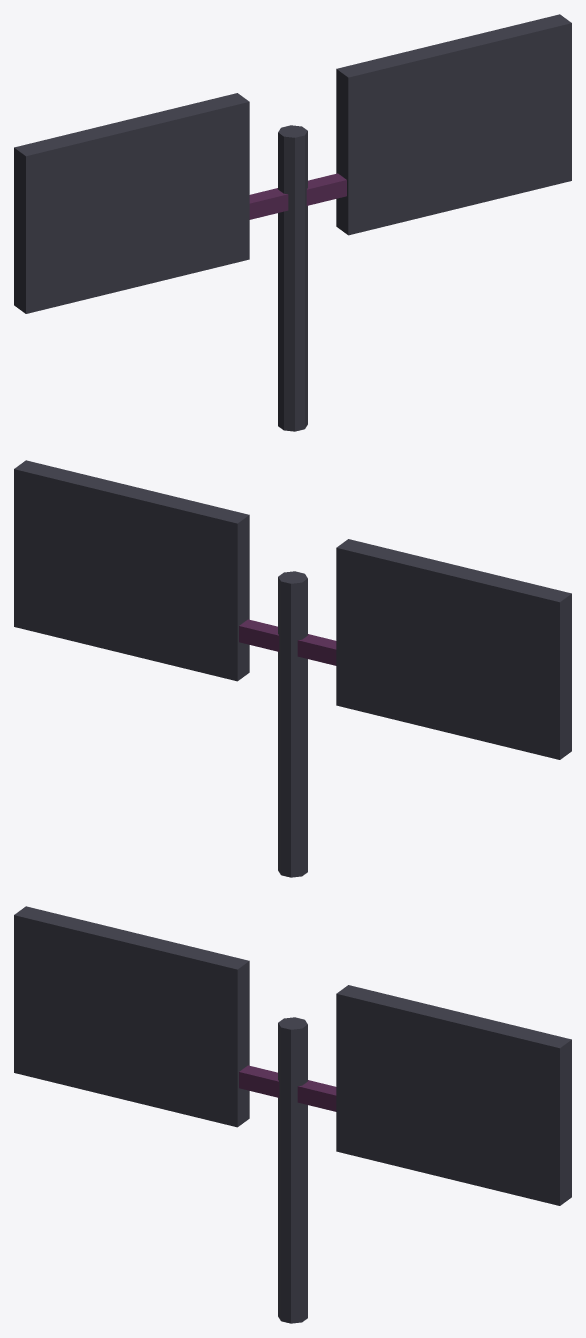
The model's file is dual-monitors-on-sit-stand-arm.obj.
3 views of the same model, one above another, from view 1: azimuth 30°, elevation 25°; view 2: azimuth 150°, elevation 25°; view 3: azimuth 330°, elevation 25° (orthographic).
Visible parts, largest first — view 1: left-monitor, right-monitor, monitor-arm-post, right-arm, left-arm; view 2: left-monitor, right-monitor, monitor-arm-post, right-arm, left-arm; view 3: right-monitor, left-monitor, monitor-arm-post, left-arm, right-arm.
Boxes of the visible parts, box(x1,y1,x2,y2) form: left-monitor: box(14, 93, 249, 313); right-monitor: box(336, 14, 571, 235); monitor-arm-post: box(278, 125, 307, 431); right-arm: box(306, 173, 346, 205); left-arm: box(249, 188, 288, 219); left-monitor: box(336, 539, 571, 759); right-monitor: box(14, 460, 249, 681); monitor-arm-post: box(278, 571, 307, 877); right-arm: box(239, 619, 279, 651); left-arm: box(297, 634, 336, 665); right-monitor: box(336, 985, 571, 1205); left-monitor: box(14, 906, 249, 1127); monitor-arm-post: box(278, 1017, 307, 1323); left-arm: box(239, 1065, 279, 1097); right-arm: box(297, 1080, 336, 1111).
Size of the model in its own units: 2.1 by 1.25 by 0.0924.
